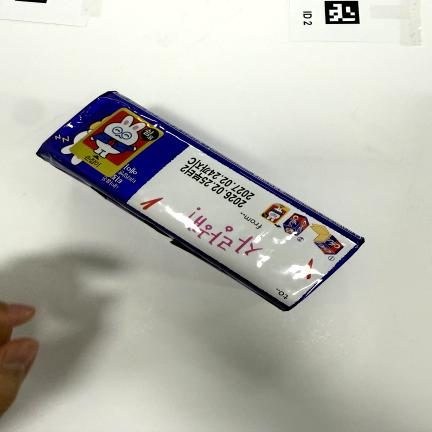cracker_ace: (37, 92, 364, 310)
